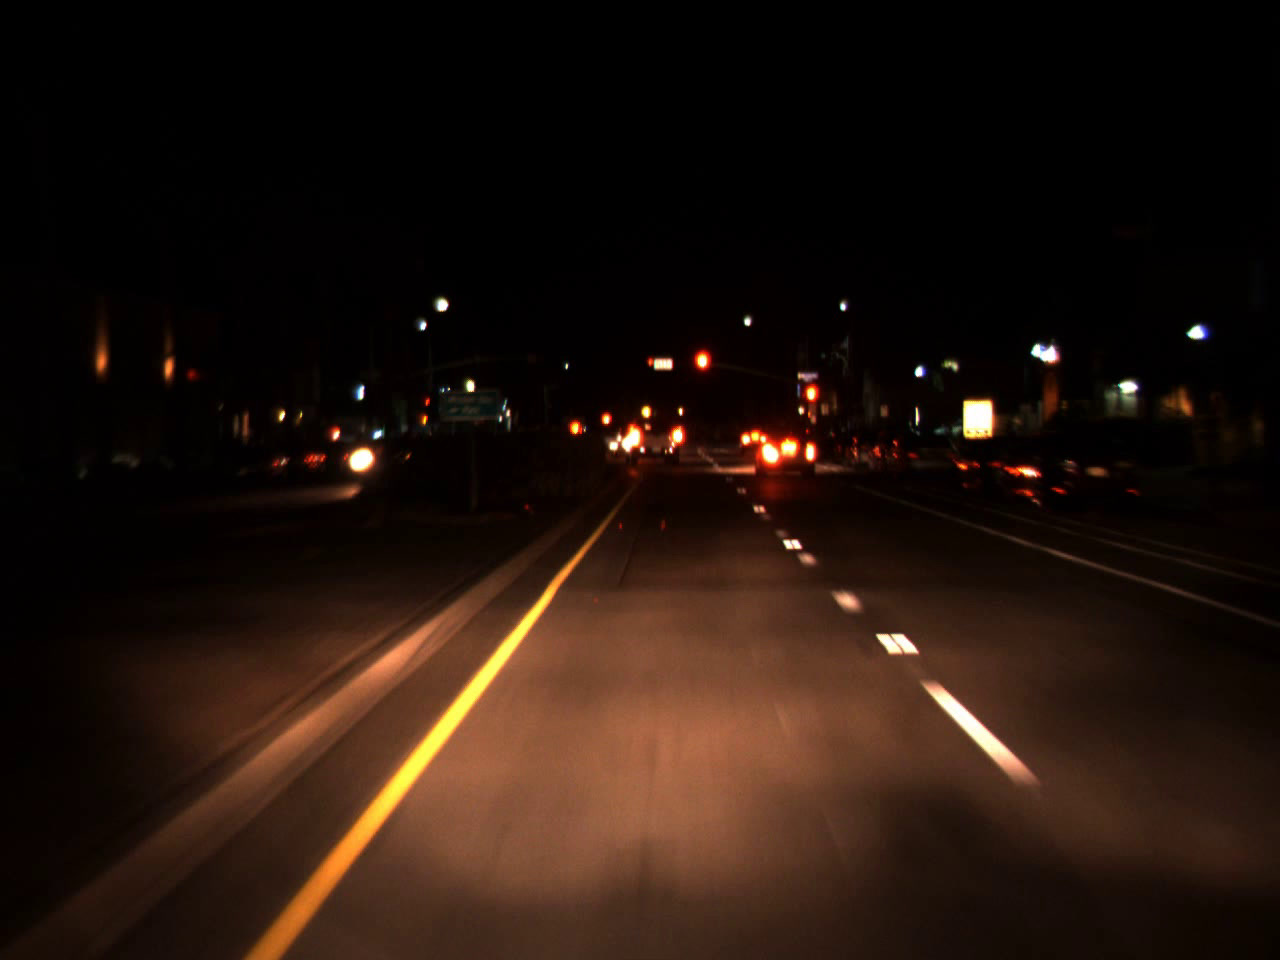stop: (691, 346, 713, 397), (803, 379, 821, 427), (647, 357, 654, 373), (424, 398, 430, 411)
